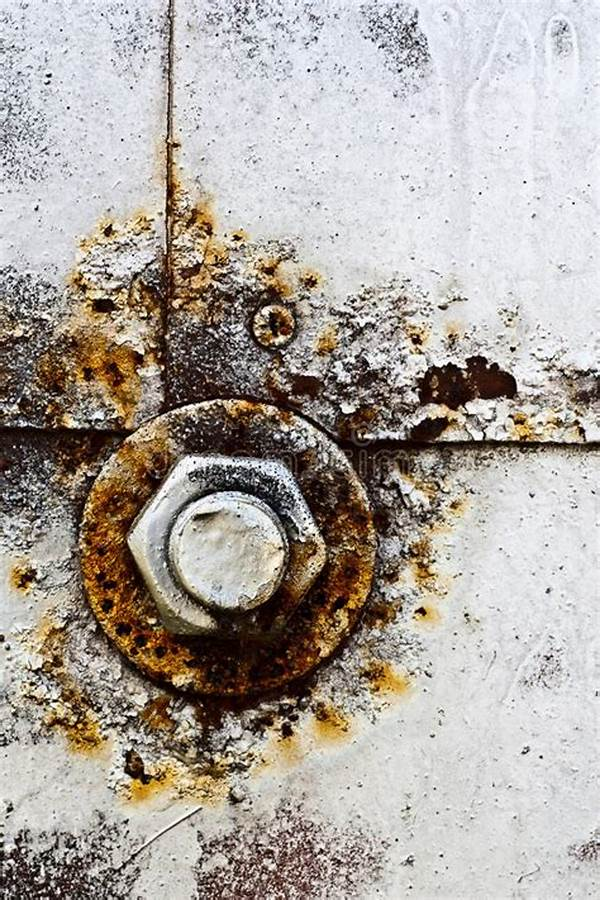bolt_b: (123, 454, 329, 648)
